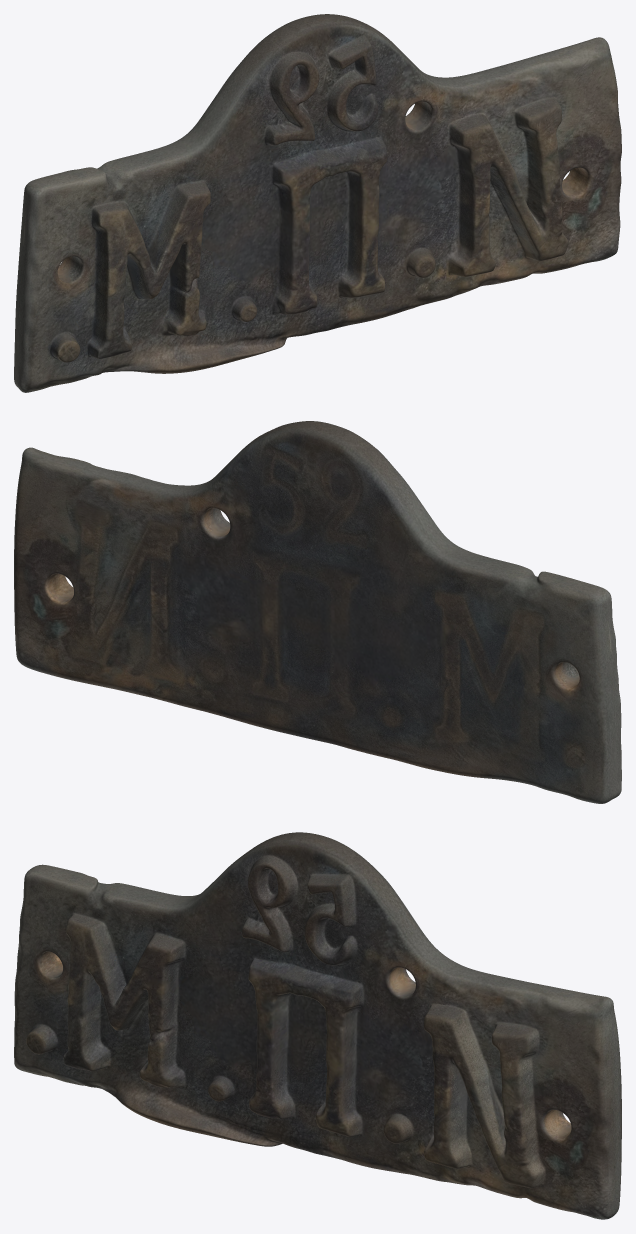
File: ugol-pechnika-metal-stamp-v1.glb
3 renders of one model, top to bottom at view 1: azimuth 30°, elevation 25°; view 2: azimuth 150°, elevation 25°; view 3: azimuth 330°, elevation 25°, orthographic.
Bounding box in the file's own units: 0.2401 × 0.12 × 0.022.
Materials: 1 (1 with a texture image).
